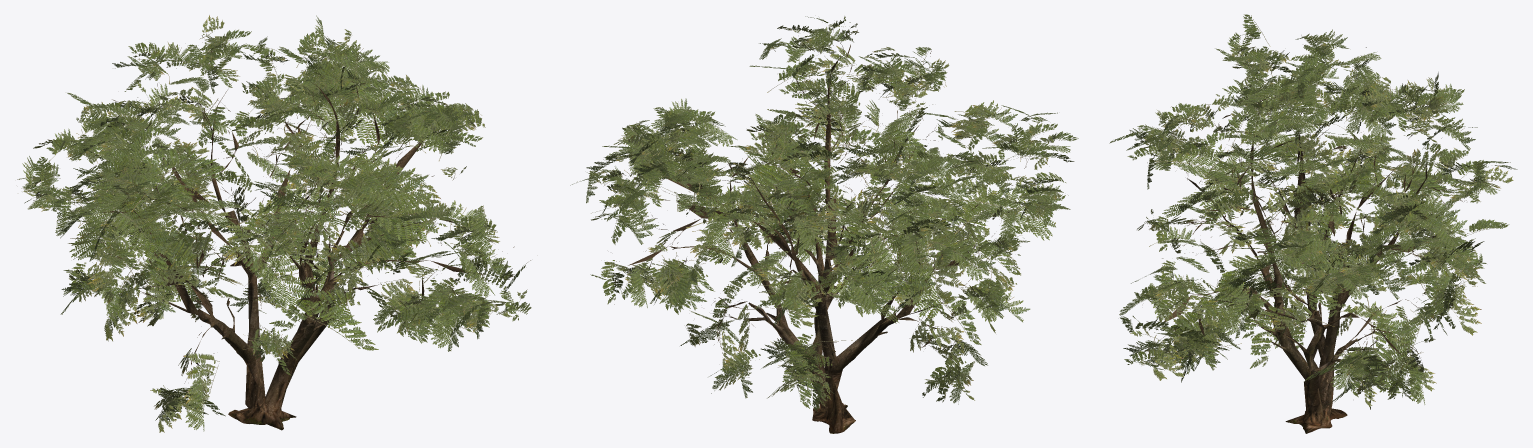
The model's file is tree_jacaranda.glb.
The picture shows the model from 3 angles, left to right: view 1: azimuth 30°, elevation 25°; view 2: azimuth 150°, elevation 25°; view 3: azimuth 270°, elevation 25°; orthographic projection. The views are drawn at different scales.
Parts seen in each view (by area): view 1: jacaranda_tree_LOD0; view 2: jacaranda_tree_LOD0; view 3: jacaranda_tree_LOD0.
Part boxes in pixels (x1,y1,x2,y2): jacaranda_tree_LOD0: [17, 15, 531, 432]; jacaranda_tree_LOD0: [570, 16, 1078, 433]; jacaranda_tree_LOD0: [1109, 14, 1517, 433].
Size of the model in its own units: 10.44 by 8.5 by 8.52.
Materials: 3 (3 with a texture image).
